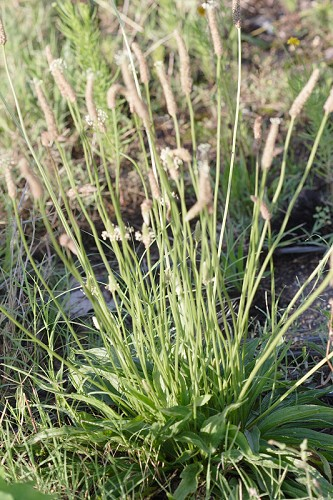buckhorn plantain: (5, 38, 313, 439)
